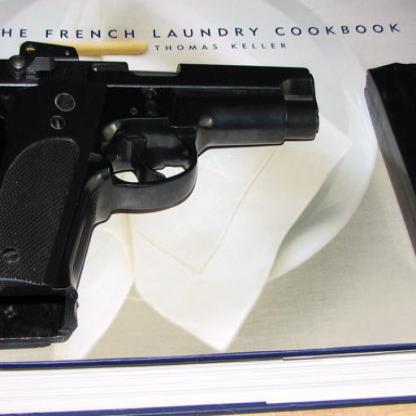gun: (0, 38, 321, 349)
